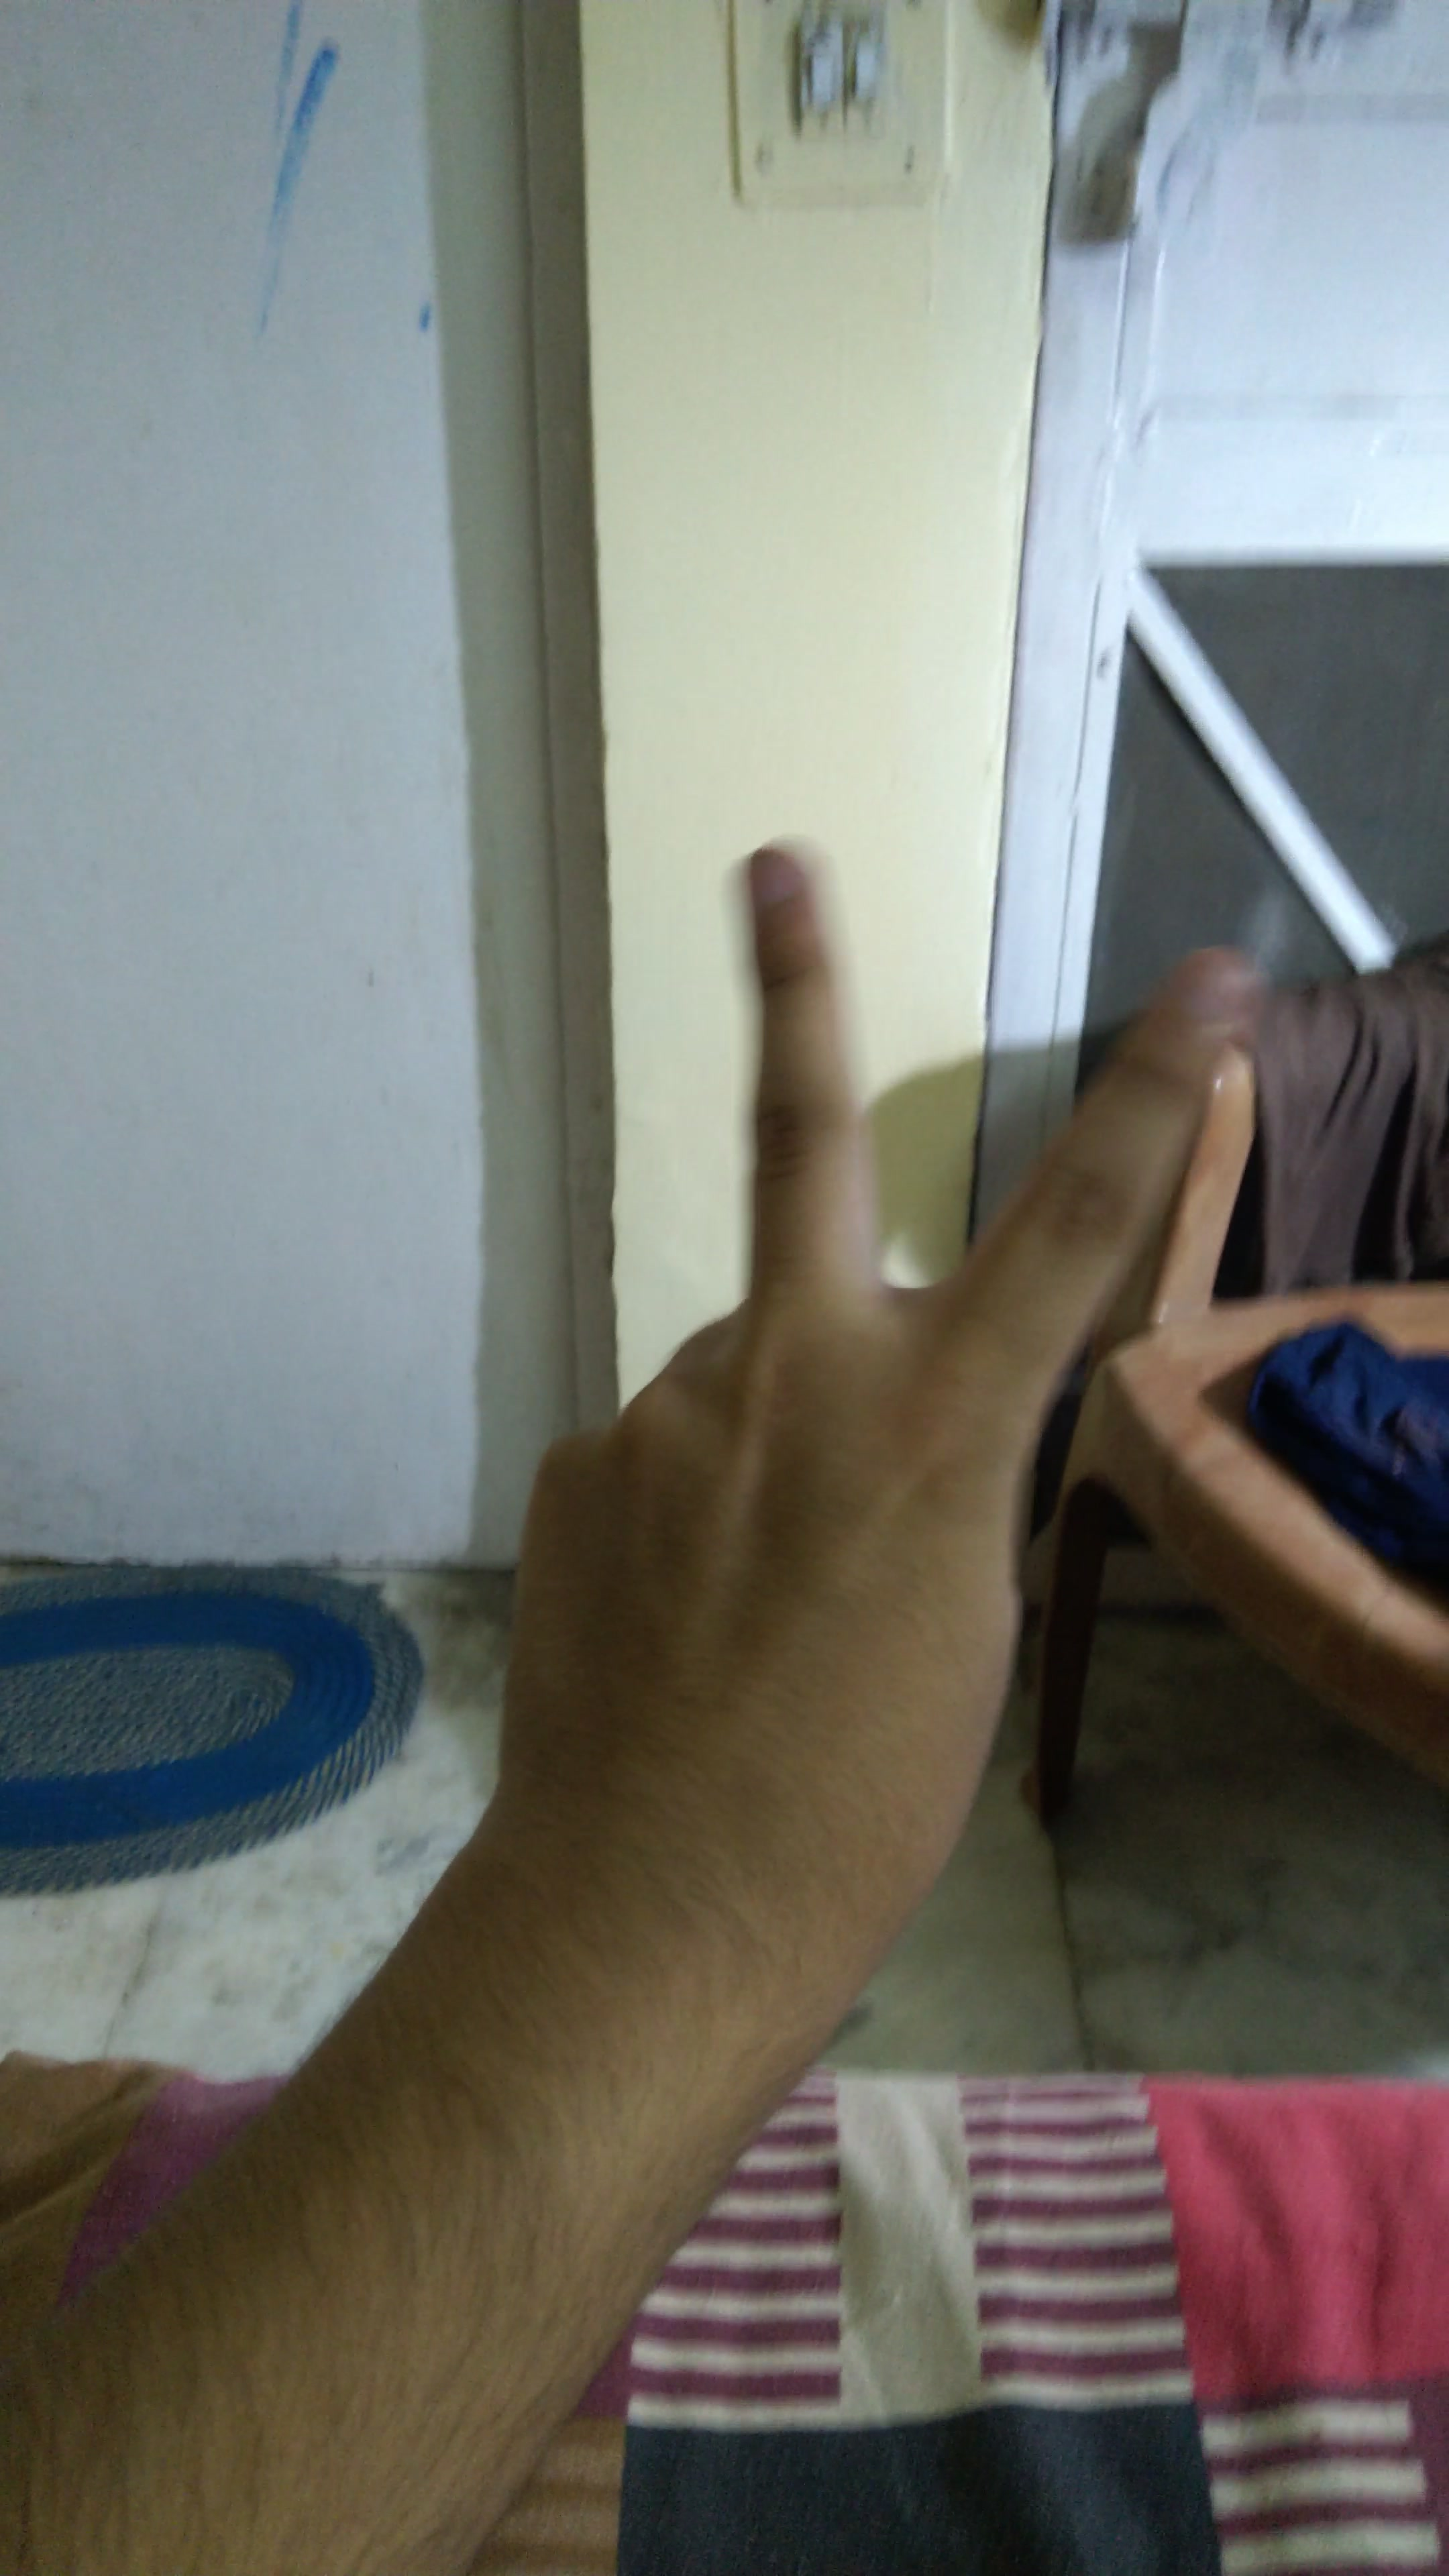hand: (421, 821, 1276, 2020)
